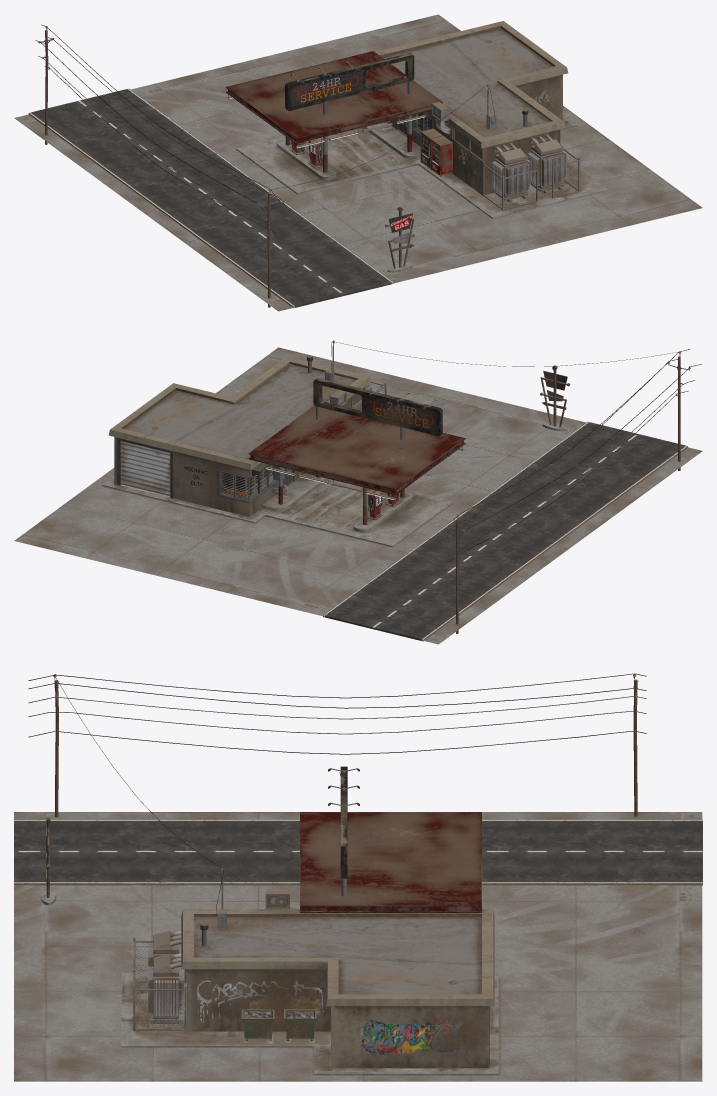
Rendered from old_gas_station.glb.
The picture shows the model from 3 angles, top to bottom: view 1: azimuth 30°, elevation 25°; view 2: azimuth 150°, elevation 25°; view 3: azimuth 270°, elevation 25°; orthographic projection. The views are drawn at different scales.
Visible parts, largest first — view 1: GROUND_LOW_POLY, ROAD_LOW_POLY, STATION_LOW_POLY, ROOF_LOW_POLY_LOW_POLY, FLOOR_LOW_POLY, BILLBOARD_LOW_POLY, TEXT_LOW_POLY, BASE_LOW_POLY, CABLE_LOW_POLY, GENERATOR_FRIZE_LOW_POLY, GENERATOR_FRIZE_2_LOW_POLY, FENCE_LOW_POLY (+5 smaller); view 2: GROUND_LOW_POLY, ROAD_LOW_POLY, STATION_LOW_POLY, ROOF_LOW_POLY_LOW_POLY, FLOOR_LOW_POLY, GATE_LOW_POLY, BILLBOARD_LOW_POLY, BASE_LOW_POLY, TEXT_LOW_POLY, CABLE_LOW_POLY, WOOD_FRAME_LOW_POLY, JALOUSIE_LOW_POLY (+2 smaller); view 3: GROUND_LOW_POLY, STATION_LOW_POLY, ROAD_LOW_POLY, ROOF_LOW_POLY_LOW_POLY, FLOOR_LOW_POLY, TEXT_LOW_POLY, CABLE_LOW_POLY, GENERATOR_2_LOW_POLY, GENERATOR_FRIZE_2_LOW_POLY, TRASH_1_LOW_POLY, TRASH_2_LOW_POLY, BILLBOARD_LOW_POLY (+1 smaller).
Boxes of the visible parts, box(x1,y1,x2,y2) form: GROUND_LOW_POLY: box(14, 14, 702, 311); ROAD_LOW_POLY: box(28, 88, 393, 308); STATION_LOW_POLY: box(375, 21, 568, 194); ROOF_LOW_POLY_LOW_POLY: box(226, 51, 443, 143); FLOOR_LOW_POLY: box(236, 114, 607, 218); BILLBOARD_LOW_POLY: box(285, 53, 414, 110); TEXT_LOW_POLY: box(291, 70, 555, 181); BASE_LOW_POLY: box(276, 122, 420, 272); CABLE_LOW_POLY: box(35, 24, 290, 243); GENERATOR_FRIZE_LOW_POLY: box(492, 159, 530, 194); GENERATOR_FRIZE_2_LOW_POLY: box(528, 150, 566, 186); FENCE_LOW_POLY: box(482, 149, 580, 210); GROUND_LOW_POLY: box(14, 347, 702, 644); ROAD_LOW_POLY: box(323, 421, 687, 641); STATION_LOW_POLY: box(108, 356, 371, 516); ROOF_LOW_POLY_LOW_POLY: box(248, 405, 465, 494); FLOOR_LOW_POLY: box(102, 469, 453, 547); GATE_LOW_POLY: box(121, 441, 170, 495); BILLBOARD_LOW_POLY: box(313, 378, 442, 435); BASE_LOW_POLY: box(261, 422, 567, 532); TEXT_LOW_POLY: box(184, 395, 436, 497); CABLE_LOW_POLY: box(447, 349, 701, 561); WOOD_FRAME_LOW_POLY: box(117, 437, 294, 502); JALOUSIE_LOW_POLY: box(222, 464, 291, 498); GROUND_LOW_POLY: box(14, 812, 702, 1081); STATION_LOW_POLY: box(181, 909, 494, 1068); ROAD_LOW_POLY: box(14, 819, 702, 885); ROOF_LOW_POLY_LOW_POLY: box(300, 812, 481, 912); FLOOR_LOW_POLY: box(121, 972, 498, 1075); TEXT_LOW_POLY: box(197, 772, 467, 1055); CABLE_LOW_POLY: box(28, 673, 646, 754); GENERATOR_2_LOW_POLY: box(153, 953, 186, 1022); GENERATOR_FRIZE_2_LOW_POLY: box(148, 966, 183, 1015); TRASH_1_LOW_POLY: box(241, 1009, 274, 1040); TRASH_2_LOW_POLY: box(284, 1009, 316, 1040); BILLBOARD_LOW_POLY: box(340, 766, 347, 878).
Bounding box in the file's own units: 2581 × 681 × 2754.
4 materials, 4 textured.
